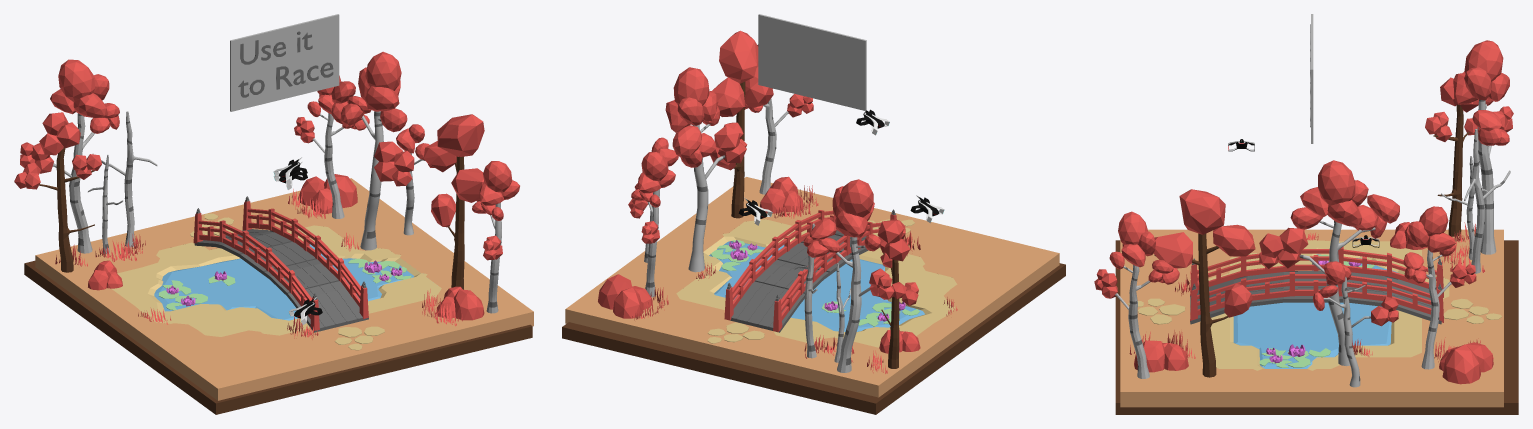
File: pinkForest.glb
3 views of the same model, side by side, from view 1: azimuth 30°, elevation 25°; view 2: azimuth 150°, elevation 25°; view 3: azimuth 270°, elevation 25° (orthographic). The views are drawn at different scales.
Parts seen in each view (by area): view 1: pinkForest, text; view 2: pinkForest, text; view 3: pinkForest, text.
Boxes of the visible parts, box(x1,y1,x2,y2) form: pinkForest: box(14, 51, 533, 414); text: box(230, 14, 339, 111); pinkForest: box(562, 30, 1065, 414); text: box(758, 14, 866, 110); pinkForest: box(1094, 40, 1518, 414); text: box(1310, 14, 1313, 143).
Size of the model in its own units: 11.37 by 8.68 by 11.36.
